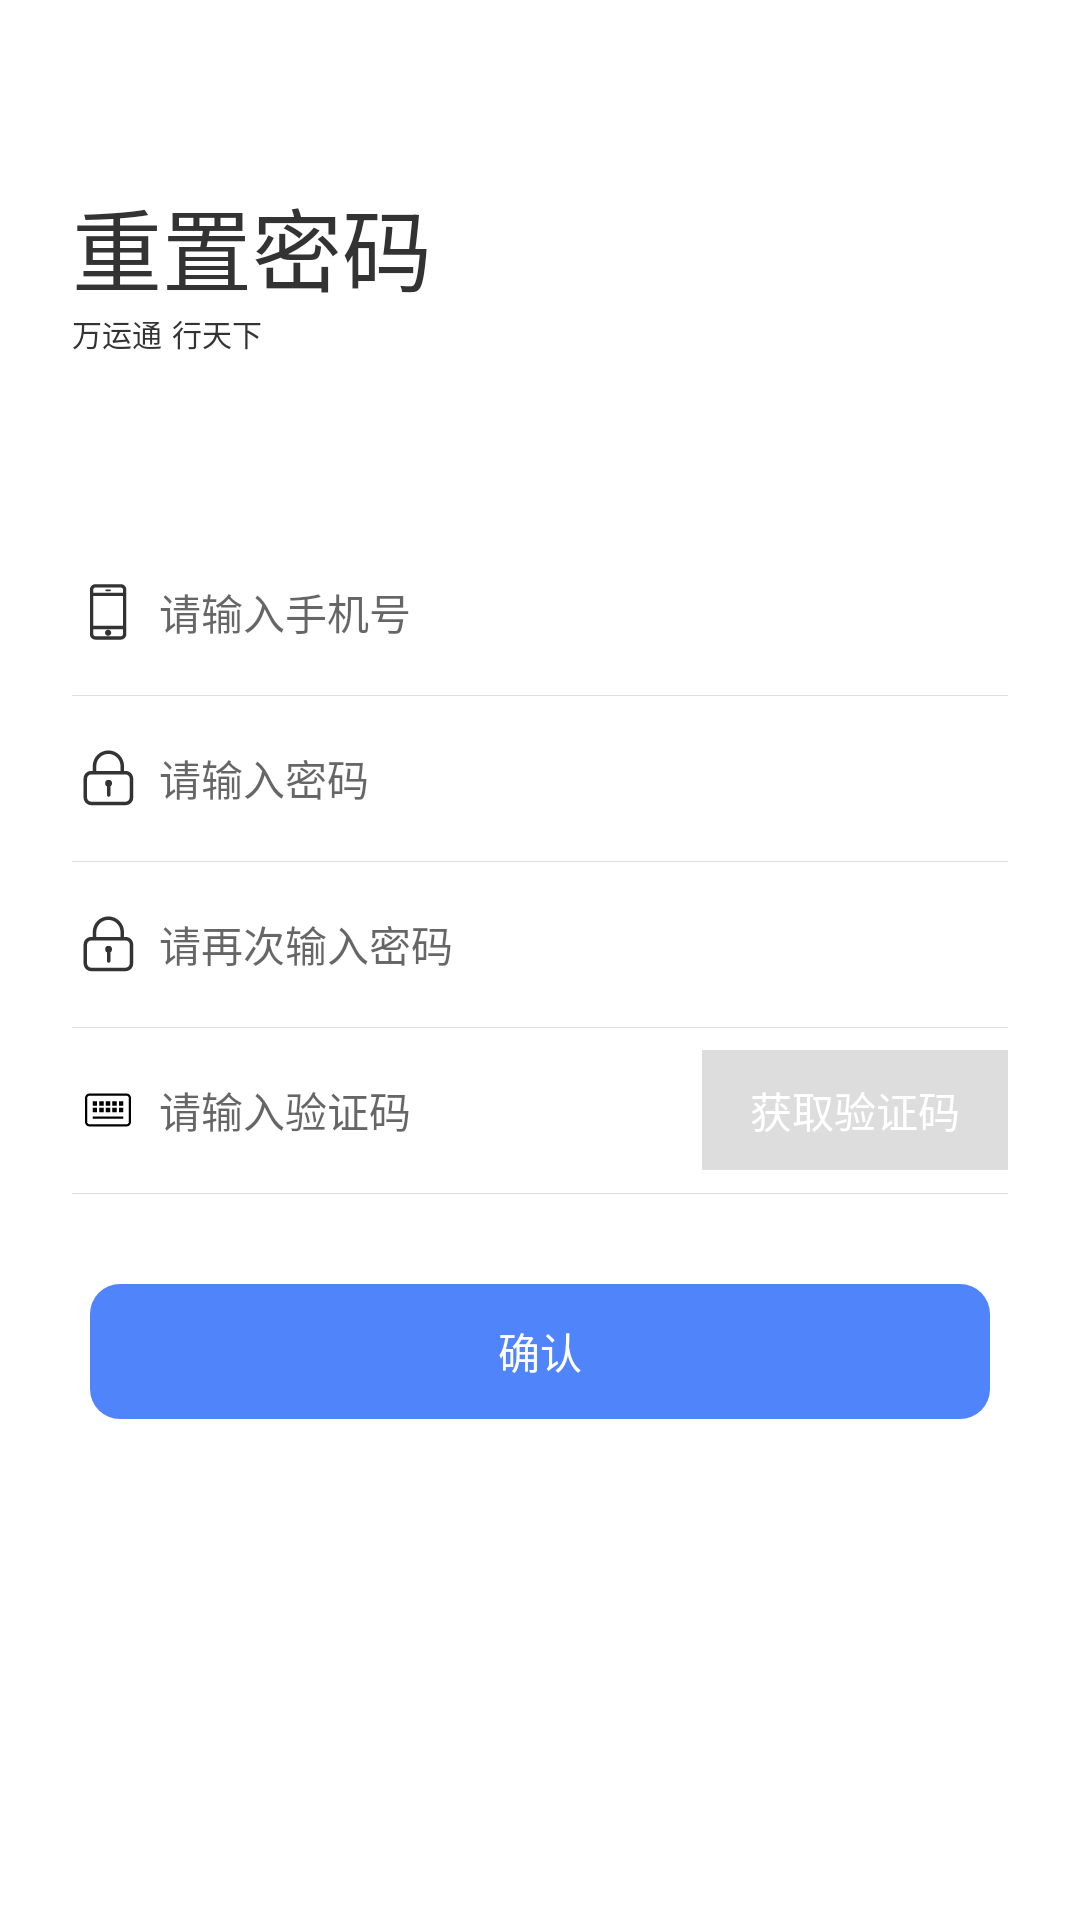

Icon click points for this 1080px×1920px phone screenshot, format point (x, y):
keyboard: point (108, 1110)
phone: point (108, 612)
